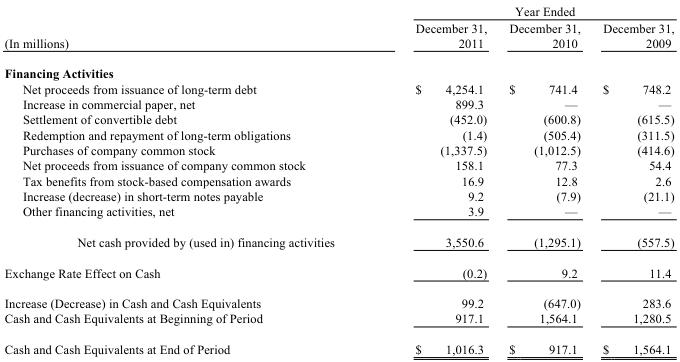table: (3, 4, 673, 355)
table column: (3, 4, 374, 355), (374, 4, 497, 355), (497, 4, 590, 355), (590, 4, 673, 355)
table column header: (3, 4, 673, 57)
table projected row header: (3, 57, 673, 80)
table row: (3, 19, 673, 57), (3, 256, 673, 287), (3, 226, 673, 256), (3, 57, 673, 80), (3, 203, 673, 226), (3, 287, 673, 310), (3, 310, 673, 333), (3, 333, 673, 355), (3, 80, 673, 96), (3, 126, 673, 142), (3, 172, 673, 188), (3, 4, 673, 19), (3, 96, 673, 111), (3, 111, 673, 126), (3, 142, 673, 157), (3, 157, 673, 172), (3, 188, 673, 203)
table spanning cell: (3, 4, 374, 57), (374, 4, 673, 19)
